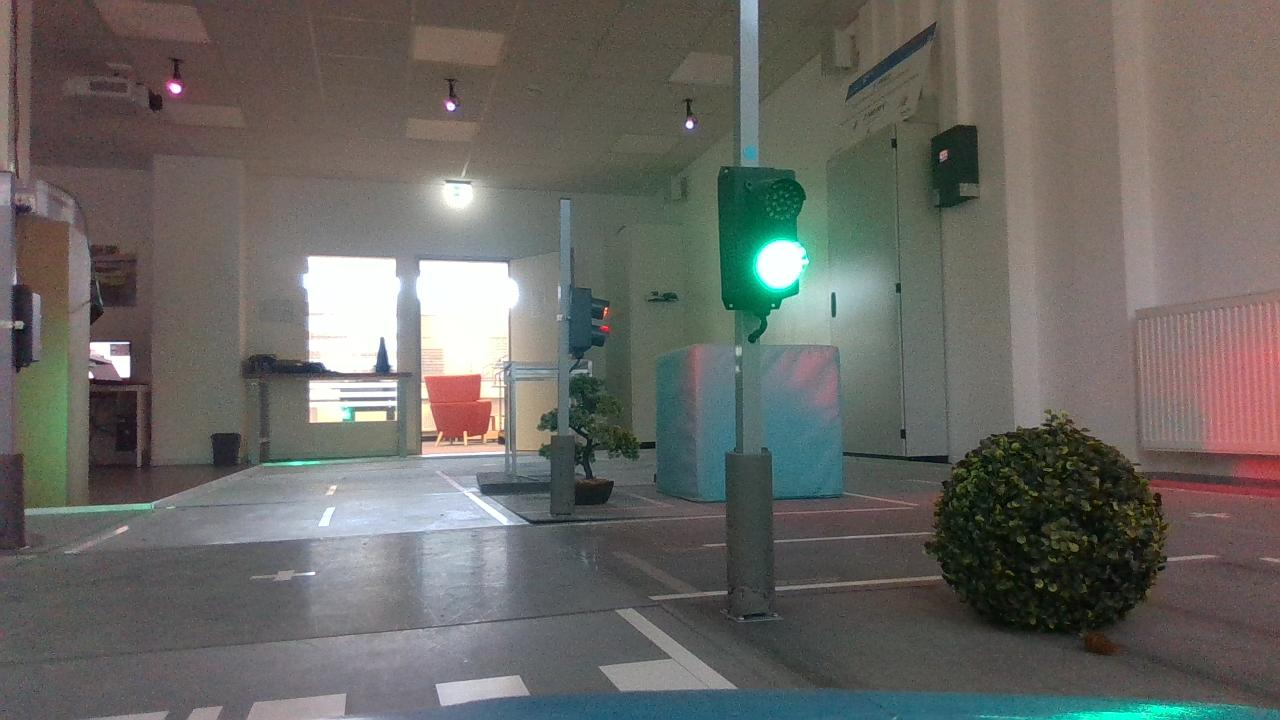traffic_light_green: (712, 156, 815, 328)
